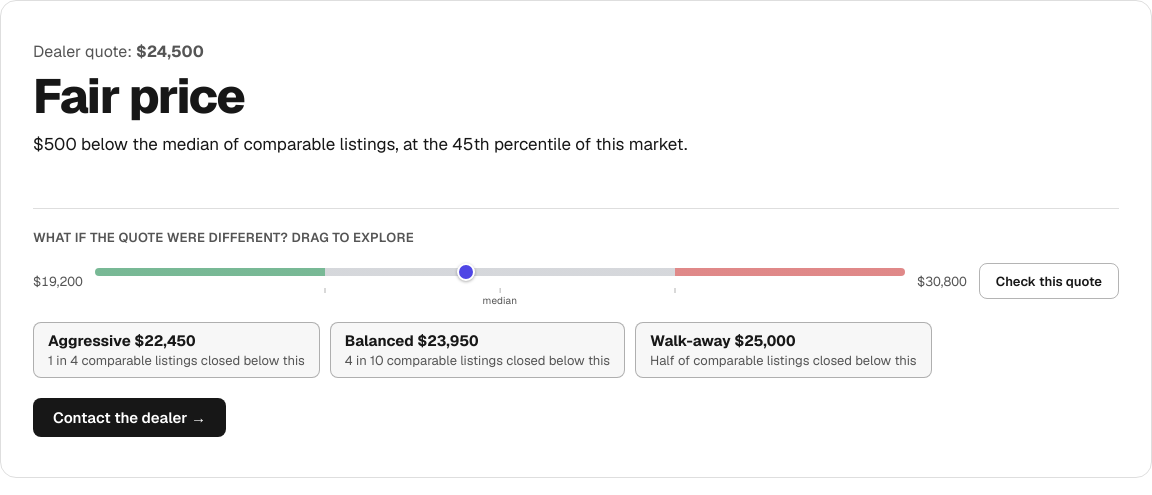
Scenario: QuoteExplorer › dragging the slider reruns the domain math live
Set the slider labelled "What if the quote were different? Drag to explore" to "20000" at (158, 272), box x1=95 y1=256 x2=905 y2=288
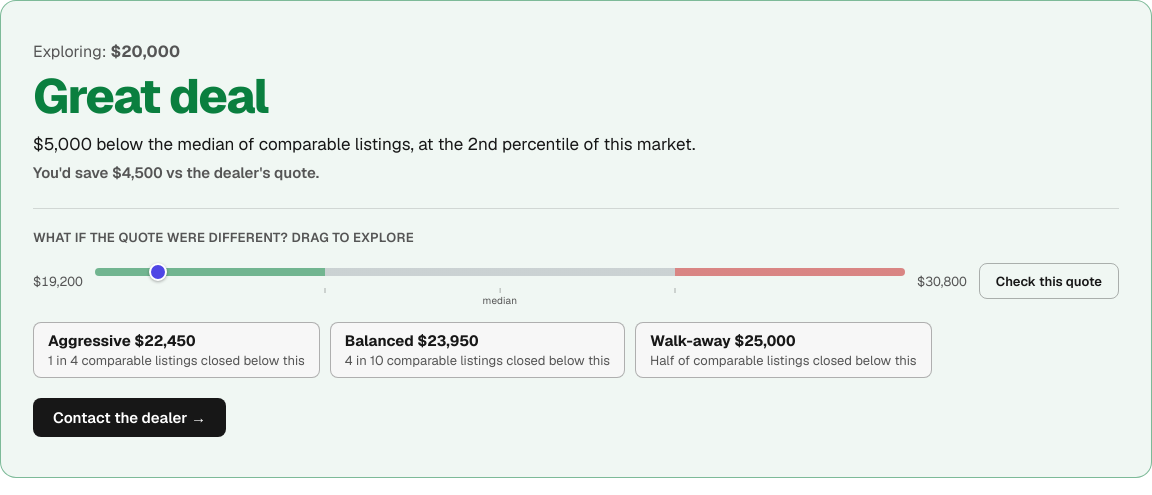
Expected: the element with test id "verdict-hero" shows "Great deal", x1=33 y1=65 x2=268 y2=127
Expected: the text "Exploring: $20,000" is shown, x1=33 y1=41 x2=180 y2=62
Set the slider labelled "What if the quote were different? Drag to explore" to "30000" at (842, 272), box x1=95 y1=256 x2=905 y2=288
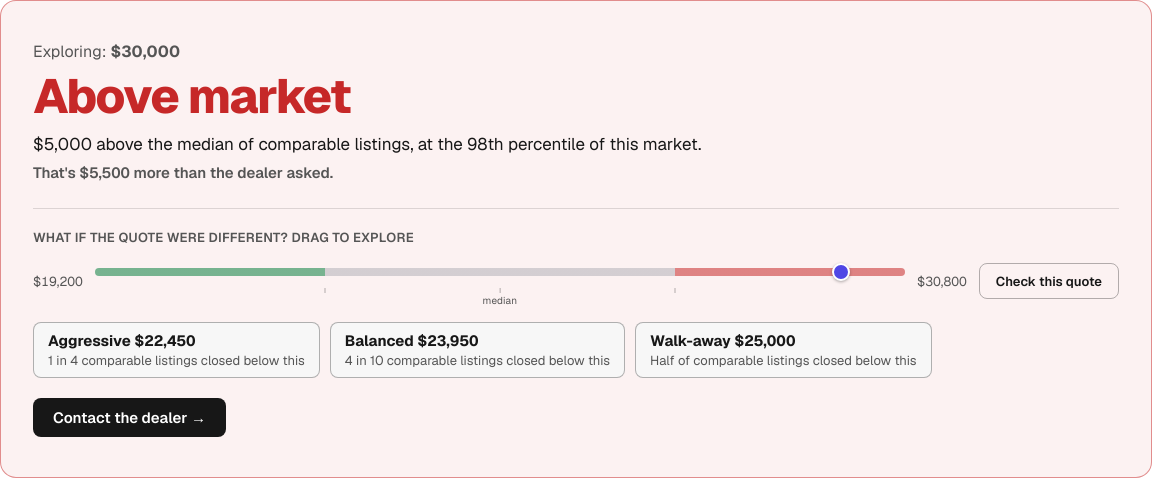
Expected: the element with test id "verdict-hero" shows "Above market", x1=33 y1=65 x2=350 y2=127
Expected: the text "$5,000 above the median" is shown, x1=33 y1=133 x2=702 y2=155
